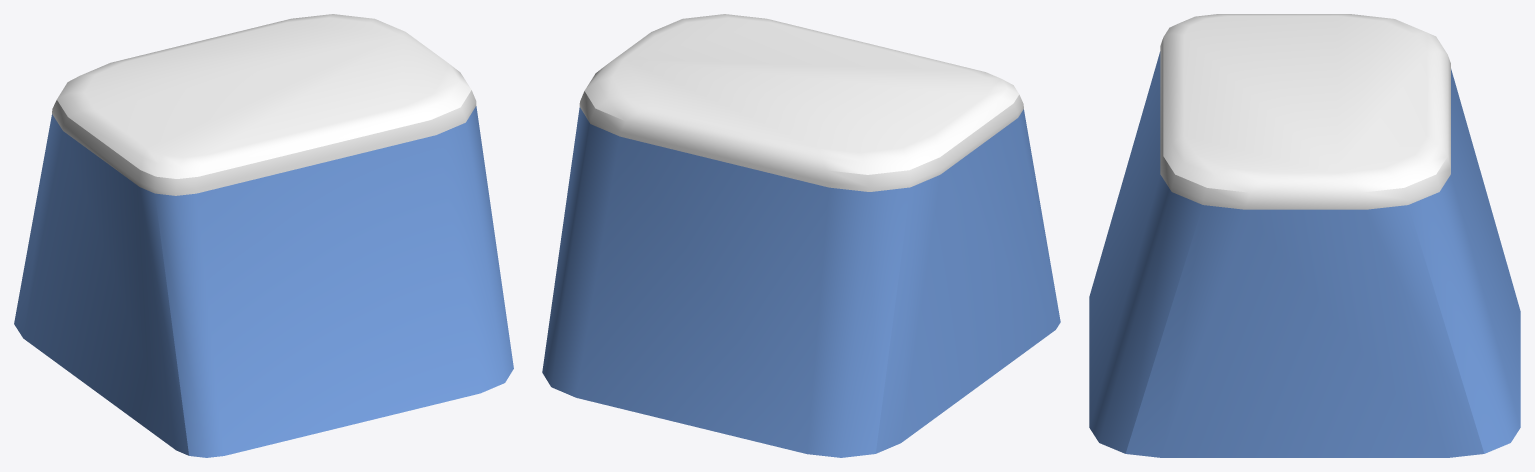
File: HillRock005.fbx
3 renders of one model, left to right at view 1: azimuth 30°, elevation 25°; view 2: azimuth 150°, elevation 25°; view 3: azimuth 270°, elevation 25°, orthographic. The views are drawn at different scales.
Visible parts, largest first — view 1: HillRock005; view 2: HillRock005; view 3: HillRock005.
Boxes of the visible parts, x1,y1,x2,y2 form: HillRock005: [14, 14, 513, 457]; HillRock005: [542, 14, 1060, 457]; HillRock005: [1089, 14, 1520, 457].
Size of the model in its own units: 583 by 421 by 599.
